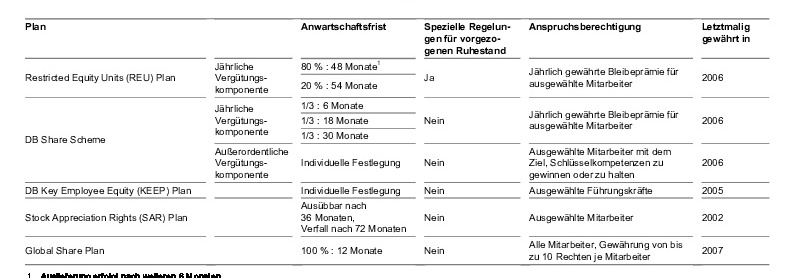table: (0, 0, 791, 278)
